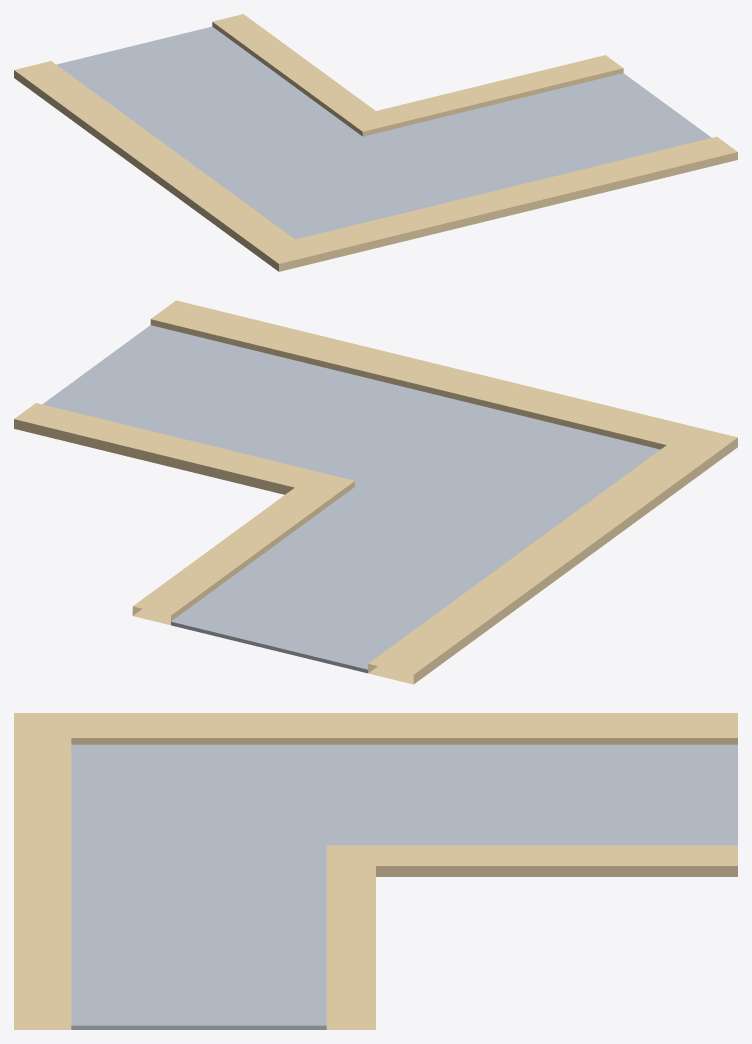
Rendered from pedestrian-way-left-turn.fbx.
The picture shows the model from 3 angles, top to bottom: view 1: azimuth 30°, elevation 25°; view 2: azimuth 150°, elevation 25°; view 3: azimuth 270°, elevation 25°; orthographic projection. The views are drawn at different scales.
Parts seen in each view (by area): view 1: pedestrian-way-left-turn; view 2: pedestrian-way-left-turn; view 3: pedestrian-way-left-turn.
Boxes of the visible parts, bbox=[...] form: pedestrian-way-left-turn: bbox=[14, 14, 737, 271]; pedestrian-way-left-turn: bbox=[14, 300, 737, 684]; pedestrian-way-left-turn: bbox=[14, 713, 737, 1029].
Size of the model in its own units: 10 by 0.165 by 10.
